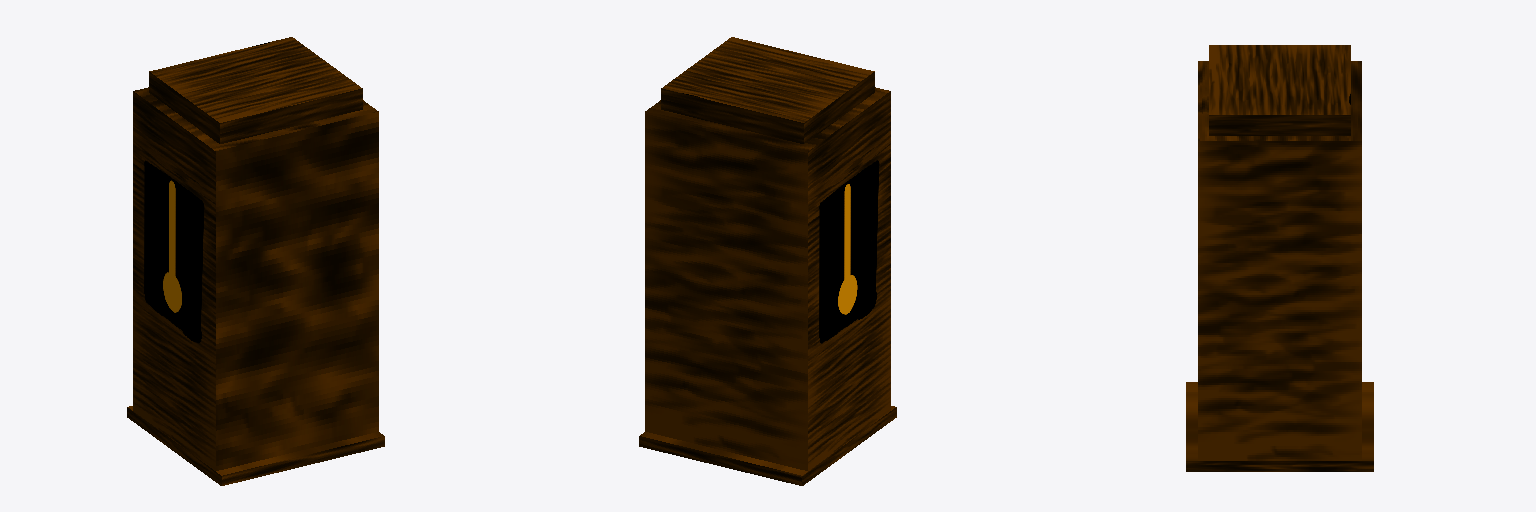
3 views of the same model, side by side, from view 1: azimuth 30°, elevation 25°; view 2: azimuth 150°, elevation 25°; view 3: azimuth 270°, elevation 25° (orthographic).
Parts seen in each view (by area): view 1: AntiqueClock; view 2: AntiqueClock; view 3: AntiqueClock.
Part boxes in pixels (x1,y1,x2,y2): AntiqueClock: (127, 37, 384, 485); AntiqueClock: (639, 37, 896, 485); AntiqueClock: (1186, 45, 1373, 471).
Size of the model in its own units: 1 by 2.06 by 1.
Materials: 2 (1 with a texture image).